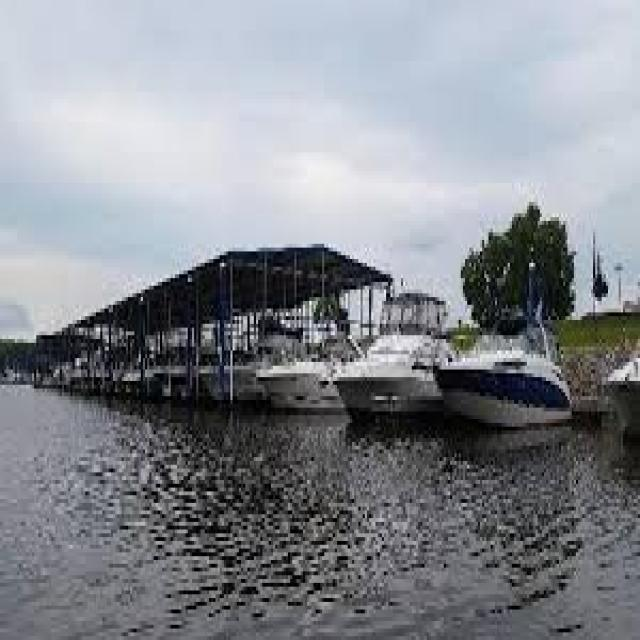houseboat: (430, 283, 585, 441), (338, 270, 452, 417), (252, 251, 358, 407)
